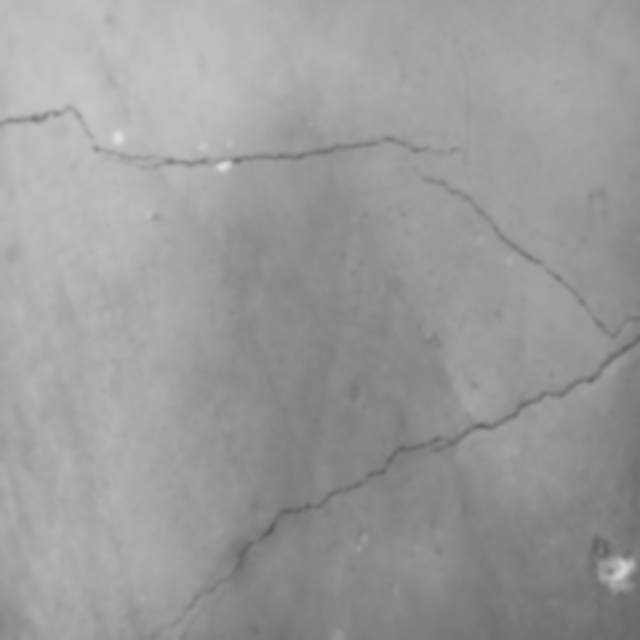SurfaceCrack: (87, 260, 640, 640), (0, 77, 618, 196)
